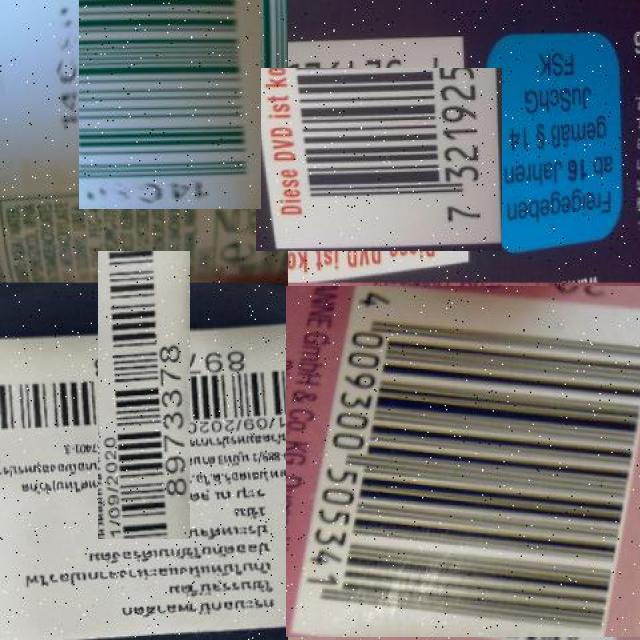Barcode: (287, 285, 640, 639), (272, 52, 487, 267), (65, 0, 275, 196), (49, 299, 239, 490)
